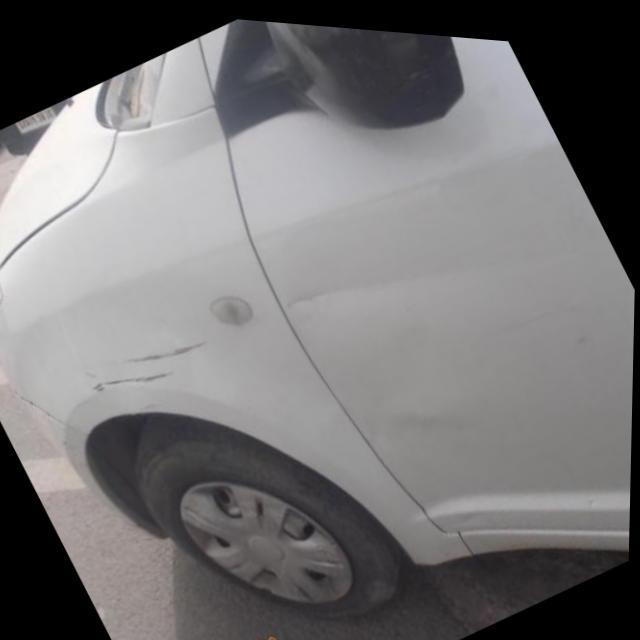dent: (363, 328, 481, 440)
scratch: (281, 239, 526, 312), (483, 284, 586, 334), (123, 330, 208, 363), (80, 368, 176, 392), (574, 318, 589, 341)
